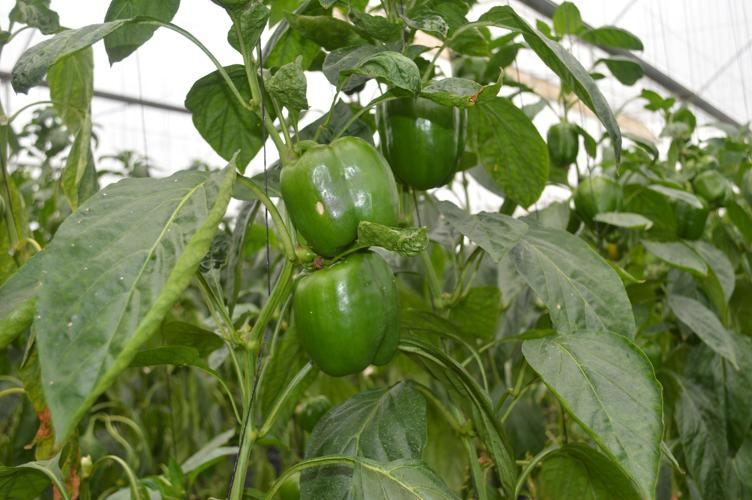BellPepper: (268, 131, 413, 251), (288, 255, 406, 381), (373, 83, 466, 184), (576, 171, 625, 244), (539, 109, 584, 168)
